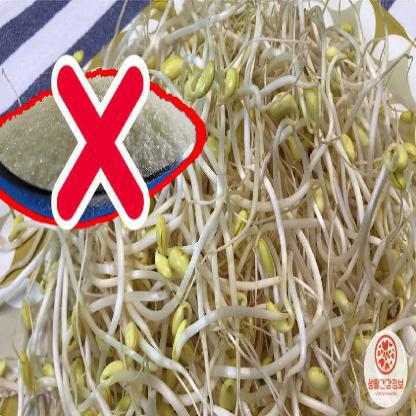bean sprouts: (210, 72, 335, 339)
